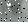person: (7, 5, 13, 16)
